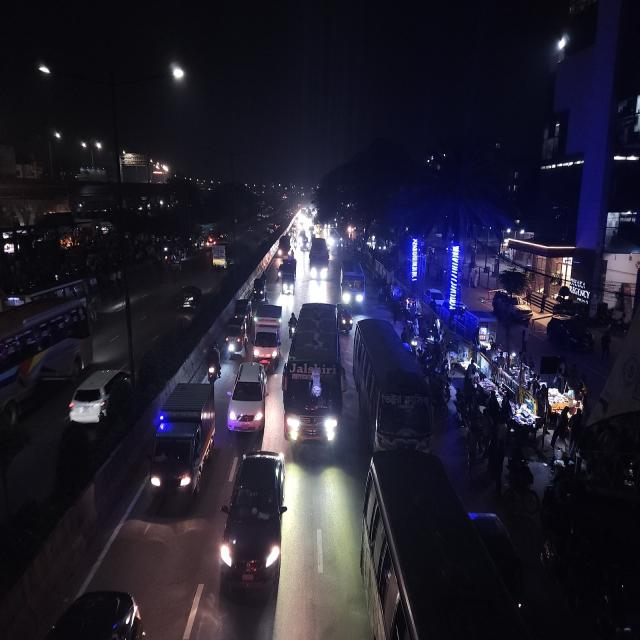bus: (359, 475, 489, 640), (278, 303, 342, 462), (356, 330, 434, 452), (4, 299, 92, 394), (308, 234, 334, 287), (341, 257, 366, 311)
car: (220, 447, 290, 605), (224, 362, 283, 449), (64, 363, 130, 423), (174, 283, 201, 317)
cng: (222, 320, 247, 357), (232, 298, 250, 329), (339, 303, 354, 335), (252, 276, 270, 302)
motorcycle: (200, 344, 226, 382), (286, 310, 299, 338)
truck: (149, 380, 215, 498), (252, 304, 282, 366), (211, 243, 236, 274), (280, 265, 297, 296)
